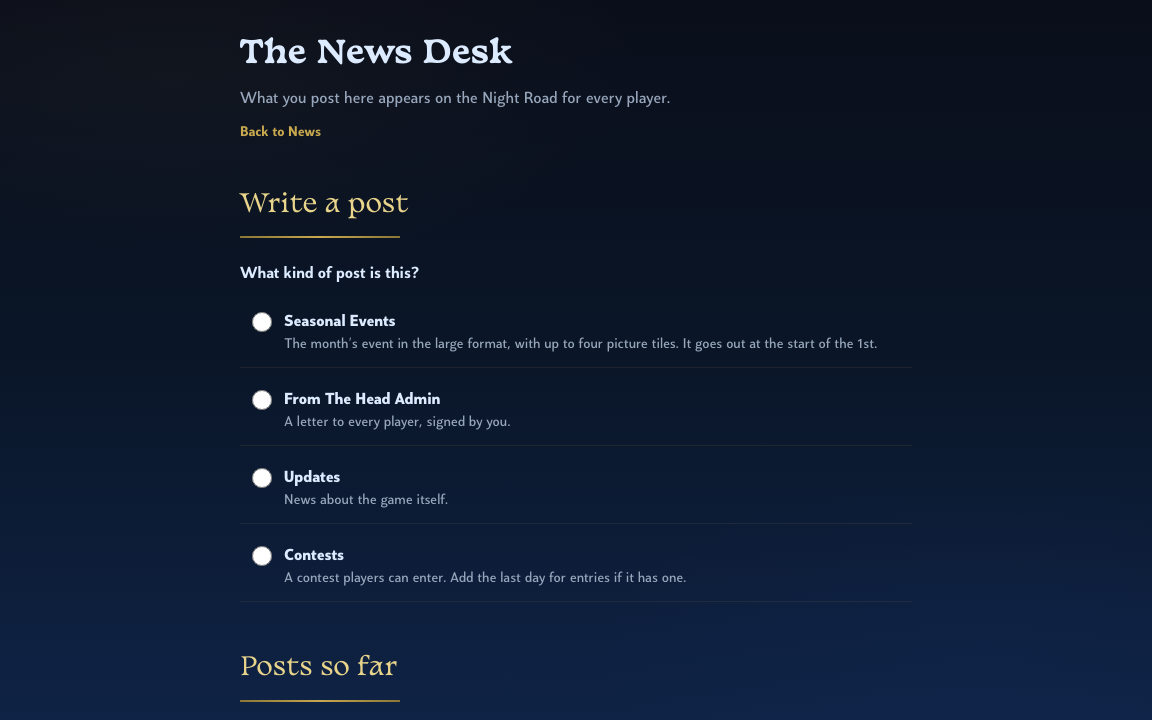
Scenario: NewsDeskPage › says plainly when picture storage is not set up for a seasonal event
Click the radio button labelled "Seasonal Events": coordinates (262, 322) [252,312,272,332]
(page scrolled)
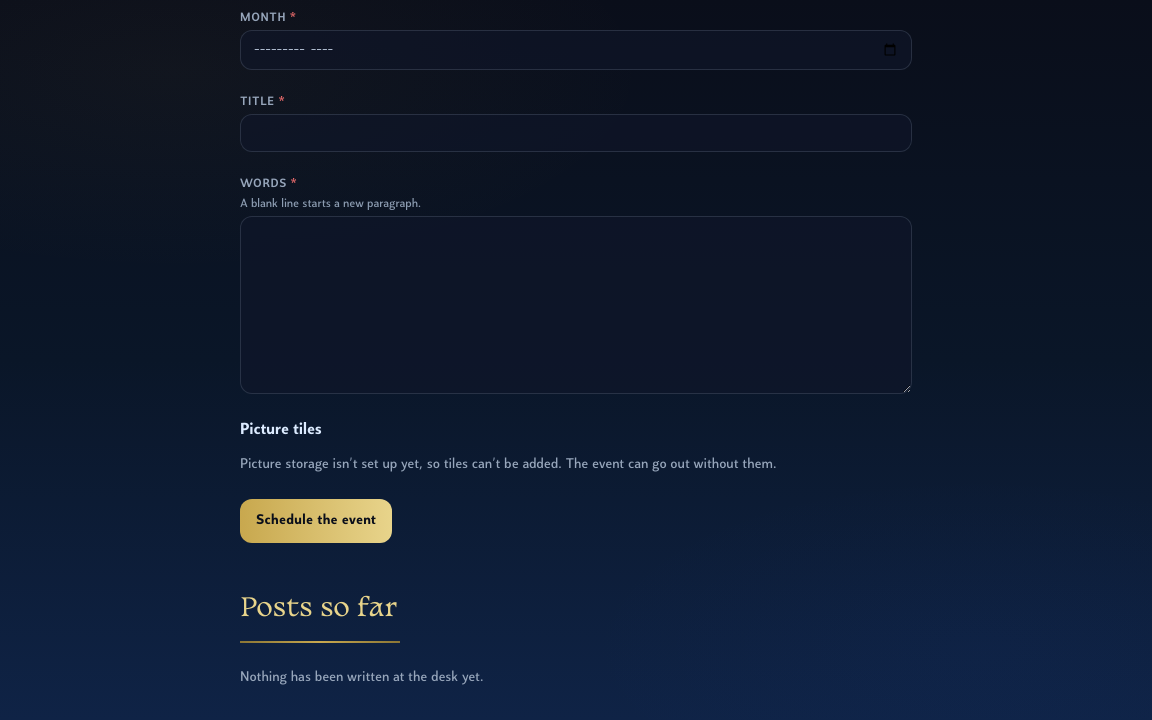
Result: the field labelled "Month *" is shown at [240,30,912,70]
Result: the text "Picture storage isn’t set up yet" is shown at [240,457,776,472]
